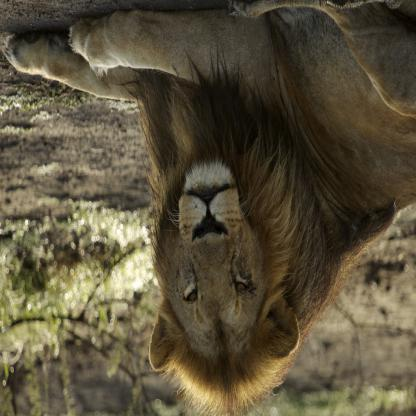lion: (144, 133, 305, 390)
